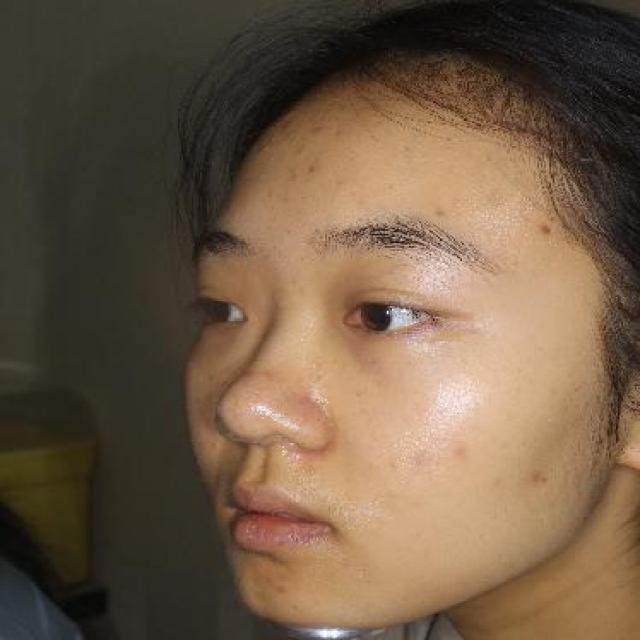blackheads: (294, 143, 308, 157), (308, 123, 323, 135), (281, 129, 296, 140), (289, 134, 300, 143)
dark spot: (404, 451, 433, 474), (424, 205, 454, 220), (448, 442, 472, 460), (524, 469, 556, 482), (536, 220, 556, 240), (304, 162, 324, 180), (264, 568, 288, 582), (272, 583, 289, 597)
whiteheads: (264, 152, 277, 162), (260, 142, 270, 150)
